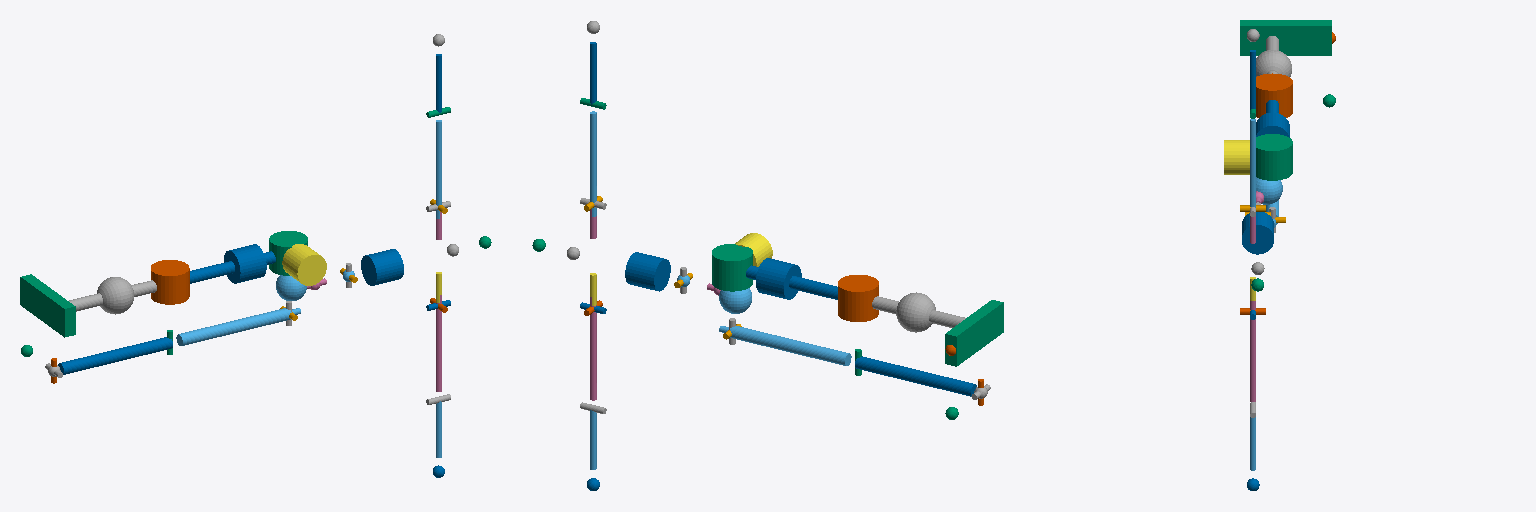
--- Render facts (derived) ---
Views: 3 orthographic renders of the robot side by side, from view 1: azimuth 30°, elevation 25°; view 2: azimuth 150°, elevation 25°; view 3: azimuth 270°, elevation 25°.
Model bvh_human_3dof_tpose with 70 links and 69 joints (23 revolute, 45 fixed, 1 floating), rooted at world, posed all joints at 0.
Links seen in each view (by area): view 1: LeftFoot, LeftUpLeg, LeftLeg, LeftLeg_rz, RightUpLeg, RightLeg, LeftUpLeg_ry, Spine2, LeftUpLeg_rz, Hips, LeftArm; view 2: LeftFoot, LeftUpLeg, LeftLeg, LeftLeg_rz, LeftUpLeg_rz, RightUpLeg, RightLeg, Spine2, LeftArm, LeftUpLeg_ry, Hips, RightArm; view 3: LeftFoot, LeftUpLeg_rz, LeftLeg_rz, Spine2, LeftLeg, LeftUpLeg_ry, LeftUpLeg, RightArm, LeftArm.
Boxes of the visible links, left/top/right/bottom form: LeftFoot: left=20, top=274, right=75, bottom=337; LeftUpLeg: left=190, top=244, right=275, bottom=283; LeftLeg: left=69, top=277, right=156, bottom=314; LeftLeg_rz: left=151, top=260, right=189, bottom=304; RightUpLeg: left=176, top=308, right=300, bottom=345; RightLeg: left=58, top=337, right=172, bottom=374; LeftUpLeg_ry: left=282, top=244, right=326, bottom=285; Spine2: left=361, top=249, right=403, bottom=285; LeftUpLeg_rz: left=269, top=231, right=307, bottom=275; Hips: left=276, top=275, right=306, bottom=300; LeftArm: left=436, top=120, right=441, bottom=218; LeftFoot: left=945, top=300, right=1003, bottom=366; LeftUpLeg: left=746, top=258, right=837, bottom=299; LeftLeg: left=872, top=292, right=965, bottom=332; LeftLeg_rz: left=838, top=275, right=878, bottom=321; LeftUpLeg_rz: left=712, top=244, right=752, bottom=291; RightUpLeg: left=719, top=326, right=851, bottom=365; RightLeg: left=855, top=356, right=976, bottom=396; Spine2: left=625, top=252, right=670, bottom=291; LeftArm: left=590, top=111, right=596, bottom=216; LeftUpLeg_ry: left=735, top=233, right=772, bottom=266; Hips: left=719, top=288, right=751, bottom=313; RightArm: left=590, top=297, right=596, bottom=400; LeftFoot: left=1240, top=20, right=1331, bottom=55; LeftUpLeg_rz: left=1256, top=134, right=1292, bottom=180; LeftLeg_rz: left=1256, top=73, right=1292, bottom=117; Spine2: left=1242, top=212, right=1273, bottom=254; LeftLeg: left=1256, top=36, right=1291, bottom=76; LeftUpLeg_ry: left=1224, top=140, right=1249, bottom=174; LeftUpLeg: left=1256, top=100, right=1289, bottom=137; RightArm: left=1250, top=301, right=1255, bottom=401; LeftArm: left=1250, top=119, right=1255, bottom=207.
Size in the robot's own frame: 0.796 by 0.1705 by 0.7748 metres.
Geometry: primitives only (box / cylinder / sphere), no mesh files.

URDF robot description (bvh_human_3dof_tpose):
<?xml version='1.0' encoding='utf-8'?>
<robot name="bvh_human_3dof_tpose">
  <mujoco>
    <compiler meshdir="meshes" fusestatic="false" discardvisual="false" strippath="false" balanceinertia="true" />
  </mujoco>
  <link name="world" />
  <joint name="floating_base_joint" type="floating">
    <parent link="world" />
    <child link="Hips" />
  </joint>
  <link name="Hips">
    <inertial>
      <origin xyz="0 0 0" rpy="0 0 0" />
      <mass value="1" />
      <inertia ixx="0.0003125" ixy="0" ixz="0" iyy="0.0003125" iyz="0" izz="0.0003125" />
    </inertial>
    <visual>
      <geometry>
        <sphere radius="0.025" />
      </geometry>
    </visual>
  </link>
  <link name="LeftUpLeg_rz">
    <inertial>
      <origin xyz="0 0 0" rpy="0 0 0" />
      <mass value="1" />
      <inertia ixx="0.0003125" ixy="0" ixz="0" iyy="0.0003125" iyz="0" izz="0.0003125" />
    </inertial>
    <visual>
      <origin xyz="0 0 0" rpy="0 0 0" />
      <geometry>
        <cylinder radius="0.031" length="0.05" />
      </geometry>
    </visual>
  </link>
  <link name="LeftUpLeg_ry">
    <inertial>
      <origin xyz="0 0.05 0" rpy="0 0 0" />
      <mass value="0.5" />
      <inertia ixx="0.0003125" ixy="0" ixz="0" iyy="0.0003125" iyz="0" izz="0.0003125" />
    </inertial>
    <visual>
      <origin xyz="0 0.05 0" rpy="-1.5707963 0 0" />
      <geometry>
        <cylinder radius="0.027" length="0.048" />
      </geometry>
    </visual>
  </link>
  <link name="LeftUpLeg">
    <inertial>
      <origin xyz="0.08 0 0" rpy="0 0 0" />
      <mass value="0.5" />
      <inertia ixx="0.0003125" ixy="0" ixz="0" iyy="0.0003125" iyz="0" izz="0.0003125" />
    </inertial>
    <visual>
      <origin xyz="0.1 -0 -0" rpy="0 1.57 0" />
      <geometry>
        <cylinder radius="0.01" length="0.2" />
      </geometry>
    </visual>
    <visual>
      <origin xyz="0.08 0 0" rpy="0 1.5707963 0" />
      <geometry>
        <cylinder radius="0.027" length="0.048" />
      </geometry>
    </visual>
  </link>
  <joint name="Hips_to_LeftUpLeg_rz" type="revolute">
    <parent link="Hips" />
    <child link="LeftUpLeg_rz" />
    <origin xyz="0.00051729 0.0092891 0.05274253" rpy="0 0 -3.1415927" />
    <axis xyz="0 0 1" />
    <limit lower="-3.14159" upper="3.14159" effort="55" velocity="10" />
  </joint>
  <joint name="LeftUpLeg_rz_to_LeftUpLeg_ry" type="revolute">
    <parent link="LeftUpLeg_rz" />
    <child link="LeftUpLeg_ry" />
    <origin xyz="0 0 0" rpy="0 0 0" />
    <axis xyz="0 1 0" />
    <limit lower="-3.14159" upper="3.14159" effort="25" velocity="10" />
  </joint>
  <joint name="LeftUpLeg_ry_to_LeftUpLeg" type="revolute">
    <parent link="LeftUpLeg_ry" />
    <child link="LeftUpLeg" />
    <origin xyz="0 0 0" rpy="3.1415927 0 0" />
    <axis xyz="1 0 0" />
    <limit lower="-3.14159" upper="3.14159" effort="25" velocity="10" />
  </joint>
  <link name="LeftLeg_rz">
    <inertial>
      <origin xyz="0 0 0" rpy="0 0 0" />
      <mass value="1" />
      <inertia ixx="0.0003125" ixy="0" ixz="0" iyy="0.0003125" iyz="0" izz="0.0003125" />
    </inertial>
    <visual>
      <origin xyz="0 0 0" rpy="0 0 0" />
      <geometry>
        <cylinder radius="0.031" length="0.05" />
      </geometry>
    </visual>
  </link>
  <link name="LeftLeg_ry">
    <inertial>
      <origin xyz="0 0 0" rpy="0 0 0" />
      <mass value="0.005" />
      <inertia ixx="0.0003125" ixy="0" ixz="0" iyy="0.0003125" iyz="0" izz="0.0003125" />
    </inertial>
  </link>
  <link name="LeftLeg">
    <inertial>
      <origin xyz="0 0 0" rpy="0 0 0" />
      <mass value="1" />
      <inertia ixx="0.0003125" ixy="0" ixz="0" iyy="0.0003125" iyz="0" izz="0.0003125" />
    </inertial>
    <visual>
      <origin xyz="0.1 -0 -0" rpy="0 1.57 0" />
      <geometry>
        <cylinder radius="0.01" length="0.2" />
      </geometry>
    </visual>
    <visual>
      <origin xyz="0.1 -0 -0" rpy="0 1.57 0" />
      <geometry>
        <sphere radius="0.03"  />
      </geometry>
    </visual>
  </link>
  <joint name="LeftUpLeg_to_LeftLeg_rz" type="revolute">
    <parent link="LeftUpLeg" />
    <child link="LeftLeg_rz" />
    <origin xyz="0.2175 -0.0000001 0.00000001" rpy="0 0 0" />
    <axis xyz="0 0 1" />
    <limit lower="-3.14159" upper="3.14159" effort="55" velocity="10" />
  </joint>
  <joint name="LeftLeg_rz_to_LeftLeg_ry" type="fixed">
    <parent link="LeftLeg_rz" />
    <child link="LeftLeg_ry" />
    <origin xyz="0 0 0" rpy="0 0 0" />
    <axis xyz="0 1 0" />
    <limit lower="-3.14159" upper="3.14159" effort="100" velocity="10" />
  </joint>
  <joint name="LeftLeg_ry_to_LeftLeg" type="fixed">
    <parent link="LeftLeg_ry" />
    <child link="LeftLeg" />
    <origin xyz="0 0 0" rpy="0 0 0" />
    <axis xyz="1 0 0" />
    <limit lower="-3.14159" upper="3.14159" effort="100" velocity="10" />
  </joint>
  <link name="LeftFoot_rz">
    <inertial>
      <origin xyz="0 0 0" rpy="0 0 0" />
      <mass value="0.005" />
      <inertia ixx="0.0003125" ixy="0" ixz="0" iyy="0.0003125" iyz="0" izz="0.0003125" />
    </inertial>
    <visual>
      <origin xyz="0 0 0" rpy="0 0 0" />
      <geometry>
        <cylinder radius="0.005" length="0.04" />
      </geometry>
    </visual>
  </link>
  <link name="LeftFoot_ry">
    <inertial>
      <origin xyz="0 0 0" rpy="0 0 0" />
      <mass value="0.005" />
      <inertia ixx="0.0003125" ixy="0" ixz="0" iyy="0.0003125" iyz="0" izz="0.0003125" />
    </inertial>
  </link>
  <link name="LeftFoot">
    <inertial>
      <origin xyz="0 0 0" rpy="0 0 0" />
      <mass value="0.105" />
      <inertia ixx="0.0003125" ixy="0" ixz="0" iyy="0.0003125" iyz="0" izz="0.0003125" />
    </inertial>
    <visual>
      <origin xyz="0.02 0 0" rpy="0 0 0" />
      <geometry>
        <box size="0.14 0.02 0.05" />
      </geometry>
    </visual>
    <visual>
      <origin xyz="0 0 0" rpy="0 1.5707963 0" />
      <geometry>
        <cylinder radius="0.005" length="0.04" />
      </geometry>
    </visual>
  </link>
  <joint name="LeftLeg_to_LeftFoot_rz" type="revolute">
    <parent link="LeftLeg" />
    <child link="LeftFoot_rz" />
    <origin xyz="0.211861 -0.00000002 0.00000001" rpy="0 0 1.5707963" />
    <axis xyz="0 0 1" />
    <limit lower="-3.14159" upper="3.14159" effort="50" velocity="10" />
  </joint>
  <joint name="LeftFoot_rz_to_LeftFoot_ry" type="fixed">
    <parent link="LeftFoot_rz" />
    <child link="LeftFoot_ry" />
    <origin xyz="0 0 0" rpy="0 0 0" />
    <axis xyz="0 1 0" />
    <limit lower="-3.14159" upper="3.14159" effort="100" velocity="10" />
  </joint>
  <joint name="LeftFoot_ry_to_LeftFoot" type="revolute">
    <parent link="LeftFoot_ry" />
    <child link="LeftFoot" />
    <origin xyz="0 0 0" rpy="0 0 0" />
    <axis xyz="1 0 0" />
    <limit lower="-3.14159" upper="3.14159" effort="50" velocity="10" />
  </joint>
  <link name="LeftToe_rz">
    <inertial>
      <origin xyz="0 0 0" rpy="0 0 0" />
      <mass value="0.005" />
      <inertia ixx="0.0003125" ixy="0" ixz="0" iyy="0.0003125" iyz="0" izz="0.0003125" />
    </inertial>
  </link>
  <link name="LeftToe_ry">
    <inertial>
      <origin xyz="0 0 0" rpy="0 0 0" />
      <mass value="0.005" />
      <inertia ixx="0.0003125" ixy="0" ixz="0" iyy="0.0003125" iyz="0" izz="0.0003125" />
    </inertial>
  </link>
  <link name="LeftToe">
    <inertial>
      <origin xyz="0 0 0" rpy="0 0 0" />
      <mass value="0.005" />
      <inertia ixx="0.0003125" ixy="0" ixz="0" iyy="0.0003125" iyz="0" izz="0.0003125" />
    </inertial>
    <visual>
      <geometry>
        <sphere radius="0.01" />
      </geometry>
    </visual>
  </link>
  <joint name="LeftFoot_to_LeftToe_rz" type="fixed">
    <parent link="LeftFoot" />
    <child link="LeftToe_rz" />
    <origin xyz="0.08650004 0.00000001 0.00000003" rpy="0 0 0" />
    <axis xyz="0 0 1" />
    <limit lower="-3.14159" upper="3.14159" effort="100" velocity="10" />
  </joint>
  <joint name="LeftToe_rz_to_LeftToe_ry" type="fixed">
    <parent link="LeftToe_rz" />
    <child link="LeftToe_ry" />
    <origin xyz="0 0 0" rpy="0 0 0" />
    <axis xyz="0 1 0" />
    <limit lower="-3.14159" upper="3.14159" effort="100" velocity="10" />
  </joint>
  <joint name="LeftToe_ry_to_LeftToe" type="fixed">
    <parent link="LeftToe_ry" />
    <child link="LeftToe" />
    <origin xyz="0 0 0" rpy="0 0 0" />
    <axis xyz="1 0 0" />
    <limit lower="-3.14159" upper="3.14159" effort="100" velocity="10" />
  </joint>
  <link name="LeftToe_End">
    <inertial>
      <origin xyz="0 0 0" rpy="0 0 0" />
      <mass value="0.125" />
      <inertia ixx="0.0003125" ixy="0" ixz="0" iyy="0.0003125" iyz="0" izz="0.0003125" />
    </inertial>
    <visual>
      <geometry>
        <sphere radius="0.01" />
      </geometry>
    </visual>
  </link>
  <joint name="LeftToe_to_LeftToe_End" type="fixed">
    <parent link="LeftToe" />
    <child link="LeftToe_End" />
    <origin xyz="0 0 0" rpy="0 0 0" />
  </joint>
  <link name="RightUpLeg_rz">
    <inertial>
      <origin xyz="0 0 0" rpy="0 0 0" />
      <mass value="0.125" />
      <inertia ixx="0.0003125" ixy="0" ixz="0" iyy="0.0003125" iyz="0" izz="0.0003125" />
    </inertial>
    <visual>
      <origin xyz="0 0 0" rpy="0 0 0" />
      <geometry>
        <cylinder radius="0.005" length="0.04" />
      </geometry>
    </visual>
  </link>
  <link name="RightUpLeg_ry">
    <inertial>
      <origin xyz="0 0 0" rpy="0 0 0" />
      <mass value="0.125" />
      <inertia ixx="0.0003125" ixy="0" ixz="0" iyy="0.0003125" iyz="0" izz="0.0003125" />
    </inertial>
    <visual>
      <origin xyz="0 0 0" rpy="-1.5707963 0 0" />
      <geometry>
        <cylinder radius="0.005" length="0.04" />
      </geometry>
    </visual>
  </link>
  <link name="RightUpLeg">
    <inertial>
      <origin xyz="0 0 0" rpy="0 0 0" />
      <mass value="0.125" />
      <inertia ixx="0.0003125" ixy="0" ixz="0" iyy="0.0003125" iyz="0" izz="0.0003125" />
    </inertial>
    <visual>
      <origin xyz="0.1 -0 -0" rpy="0 1.57 0" />
      <geometry>
        <cylinder radius="0.01" length="0.2" />
      </geometry>
    </visual>
    <visual>
      <origin xyz="0 0 0" rpy="0 1.5707963 0" />
      <geometry>
        <cylinder radius="0.005" length="0.04" />
      </geometry>
    </visual>
  </link>
  <joint name="Hips_to_RightUpLeg_rz" type="revolute">
    <parent link="Hips" />
    <child link="RightUpLeg_rz" />
    <origin xyz="0.00051729 0.00928909 -0.05274252" rpy="0 0 -3.1415927" />
    <axis xyz="0 0 1" />
    <limit lower="-3.14159" upper="3.14159" effort="100" velocity="10" />
  </joint>
  <joint name="RightUpLeg_rz_to_RightUpLeg_ry" type="revolute">
    <parent link="RightUpLeg_rz" />
    <child link="RightUpLeg_ry" />
    <origin xyz="0 0 0" rpy="0 0 0" />
    <axis xyz="0 1 0" />
    <limit lower="-3.14159" upper="3.14159" effort="100" velocity="10" />
  </joint>
  <joint name="RightUpLeg_ry_to_RightUpLeg" type="revolute">
    <parent link="RightUpLeg_ry" />
    <child link="RightUpLeg" />
    <origin xyz="0 0 0" rpy="-3.1415927 0 0" />
    <axis xyz="1 0 0" />
    <limit lower="-3.14159" upper="3.14159" effort="100" velocity="10" />
  </joint>
  <link name="RightLeg_rz">
    <inertial>
      <origin xyz="0 0 0" rpy="0 0 0" />
      <mass value="0.125" />
      <inertia ixx="0.0003125" ixy="0" ixz="0" iyy="0.0003125" iyz="0" izz="0.0003125" />
    </inertial>
    <visual>
      <origin xyz="0 0 0" rpy="0 0 0" />
      <geometry>
        <cylinder radius="0.005" length="0.04" />
      </geometry>
    </visual>
  </link>
  <link name="RightLeg_ry">
    <inertial>
      <origin xyz="0 0 0" rpy="0 0 0" />
      <mass value="0.125" />
      <inertia ixx="0.0003125" ixy="0" ixz="0" iyy="0.0003125" iyz="0" izz="0.0003125" />
    </inertial>
  </link>
  <link name="RightLeg">
    <inertial>
      <origin xyz="0 0 0" rpy="0 0 0" />
      <mass value="0.125" />
      <inertia ixx="0.0003125" ixy="0" ixz="0" iyy="0.0003125" iyz="0" izz="0.0003125" />
    </inertial>
    <visual>
      <origin xyz="0.1 -0 -0" rpy="0 1.57 0" />
      <geometry>
        <cylinder radius="0.01" length="0.2" />
      </geometry>
    </visual>
  </link>
  <joint name="RightUpLeg_to_RightLeg_rz" type="revolute">
    <parent link="RightUpLeg" />
    <child link="RightLeg_rz" />
    <origin xyz="0.21750021 -0.00000007 0.00000005" rpy="0 0 0" />
    <axis xyz="0 0 1" />
    <limit lower="-3.14159" upper="3.14159" effort="100" velocity="10" />
  </joint>
  <joint name="RightLeg_rz_to_RightLeg_ry" type="fixed">
    <parent link="RightLeg_rz" />
    <child link="RightLeg_ry" />
    <origin xyz="0 0 0" rpy="0 0 0" />
    <axis xyz="0 1 0" />
    <limit lower="-3.14159" upper="3.14159" effort="100" velocity="10" />
  </joint>
  <joint name="RightLeg_ry_to_RightLeg" type="fixed">
    <parent link="RightLeg_ry" />
    <child link="RightLeg" />
    <origin xyz="0 0 0" rpy="0 0 0" />
    <axis xyz="1 0 0" />
    <limit lower="-3.14159" upper="3.14159" effort="100" velocity="10" />
  </joint>
  <link name="RightFoot_rz">
    <inertial>
      <origin xyz="0 0 0" rpy="0 0 0" />
      <mass value="0.125" />
      <inertia ixx="0.0003125" ixy="0" ixz="0" iyy="0.0003125" iyz="0" izz="0.0003125" />
    </inertial>
    <visual>
      <origin xyz="0 0 0" rpy="0 0 0" />
      <geometry>
        <cylinder radius="0.005" length="0.04" />
      </geometry>
    </visual>
  </link>
  <link name="RightFoot_ry">
    <inertial>
      <origin xyz="0 0 0" rpy="0 0 0" />
      <mass value="0.125" />
      <inertia ixx="0.0003125" ixy="0" ixz="0" iyy="0.0003125" iyz="0" izz="0.0003125" />
    </inertial>
  </link>
  <link name="RightFoot">
    <inertial>
      <origin xyz="0 0 0" rpy="0 0 0" />
      <mass value="0.125" />
      <inertia ixx="0.0003125" ixy="0" ixz="0" iyy="0.0003125" iyz="0" izz="0.0003125" />
    </inertial>
    <visual>
      <geometry>
        <sphere radius="0.01" />
      </geometry>
    </visual>
    <visual>
      <origin xyz="0 0 0" rpy="0 1.5707963 0" />
      <geometry>
        <cylinder radius="0.005" length="0.04" />
      </geometry>
    </visual>
  </link>
  <joint name="RightLeg_to_RightFoot_rz" type="revolute">
    <parent link="RightLeg" />
    <child link="RightFoot_rz" />
    <origin xyz="0.2118613 -0.00000004 0.00000005" rpy="0 0 1.5707963" />
    <axis xyz="0 0 1" />
    <limit lower="-3.14159" upper="3.14159" effort="100" velocity="10" />
  </joint>
  <joint name="RightFoot_rz_to_RightFoot_ry" type="fixed">
    <parent link="RightFoot_rz" />
    <child link="RightFoot_ry" />
    <origin xyz="0 0 0" rpy="0 0 0" />
    <axis xyz="0 1 0" />
    <limit lower="-3.14159" upper="3.14159" effort="100" velocity="10" />
  </joint>
  <joint name="RightFoot_ry_to_RightFoot" type="revolute">
    <parent link="RightFoot_ry" />
    <child link="RightFoot" />
    <origin xyz="0 0 0" rpy="0 0 0" />
    <axis xyz="1 0 0" />
    <limit lower="-3.14159" upper="3.14159" effort="100" velocity="10" />
  </joint>
  <link name="RightToe_rz">
    <inertial>
      <origin xyz="0 0 0" rpy="0 0 0" />
      <mass value="0.125" />
      <inertia ixx="0.0003125" ixy="0" ixz="0" iyy="0.0003125" iyz="0" izz="0.0003125" />
    </inertial>
  </link>
  <link name="RightToe_ry">
    <inertial>
      <origin xyz="0 0 0" rpy="0 0 0" />
      <mass value="0.125" />
      <inertia ixx="0.0003125" ixy="0" ixz="0" iyy="0.0003125" iyz="0" izz="0.0003125" />
    </inertial>
  </link>
  <link name="RightToe">
    <inertial>
      <origin xyz="0 0 0" rpy="0 0 0" />
      <mass value="0.125" />
      <inertia ixx="0.0003125" ixy="0" ixz="0" iyy="0.0003125" iyz="0" izz="0.0003125" />
    </inertial>
    <visual>
      <geometry>
        <sphere radius="0.01" />
      </geometry>
    </visual>
  </link>
  <joint name="RightFoot_to_RightToe_rz" type="fixed">
    <parent link="RightFoot" />
    <child link="RightToe_rz" />
    <origin xyz="0.08649998 -0.00000002 0" rpy="0 0 0" />
    <axis xyz="0 0 1" />
    <limit lower="-3.14159" upper="3.14159" effort="100" velocity="10" />
  </joint>
  <joint name="RightToe_rz_to_RightToe_ry" type="fixed">
    <parent link="RightToe_rz" />
    <child link="RightToe_ry" />
    <origin xyz="0 0 0" rpy="0 0 0" />
    <axis xyz="0 1 0" />
    <limit lower="-3.14159" upper="3.14159" effort="100" velocity="10" />
  </joint>
  <joint name="RightToe_ry_to_RightToe" type="fixed">
    <parent link="RightToe_ry" />
    <child link="RightToe" />
    <origin xyz="0 0 0" rpy="0 0 0" />
    <axis xyz="1 0 0" />
    <limit lower="-3.14159" upper="3.14159" effort="100" velocity="10" />
  </joint>
  <link name="RightToe_End">
    <inertial>
      <origin xyz="0 0 0" rpy="0 0 0" />
      <mass value="0.125" />
      <inertia ixx="0.0003125" ixy="0" ixz="0" iyy="0.0003125" iyz="0" izz="0.0003125" />
    </inertial>
    <visual>
      <geometry>
        <sphere radius="0.01" />
      </geometry>
    </visual>
  </link>
  <joint name="RightToe_to_RightToe_End" type="fixed">
    <parent link="RightToe" />
    <child link="RightToe_End" />
    <origin xyz="0 0 0" rpy="0 0 0" />
  </joint>
  <link name="Spine_rz">
    <inertial>
      <origin xyz="0 0 0" rpy="0 0 0" />
      <mass value="0.125" />
      <inertia ixx="0.0003125" ixy="0" ixz="0" iyy="0.0003125" iyz="0" izz="0.0003125" />
    </inertial>
  </link>
  <link name="Spine_ry">
    <inertial>
      <origin xyz="0 0 0" rpy="0 0 0" />
      <mass value="0.125" />
      <inertia ixx="0.0003125" ixy="0" ixz="0" iyy="0.0003125" iyz="0" izz="0.0003125" />
    </inertial>
  </link>
  <link name="Spine">
    <inertial>
      <origin xyz="0 0 0" rpy="0 0 0" />
      <mass value="0.125" />
      <inertia ixx="0.0003125" ixy="0" ixz="0" iyy="0.0003125" iyz="0" izz="0.0003125" />
    </inertial>
    <visual>
      <geometry>
        <sphere radius="0.01" />
      </geometry>
    </visual>
    <visual>
      <origin xyz="0 0 0" rpy="0 1.5707963 0" />
      <geometry>
        <cylinder radius="0.005" length="0.04" />
      </geometry>
    </visual>
  </link>
  <joint name="Hips_to_Spine_rz" type="fixed">
    <parent link="Hips" />
    <child link="Spine_rz" />
    <origin xyz="0.03450984 -0.01301872 0.00000001" rpy="0 0 0" />
    <axis xyz="0 0 1" />
    <limit lower="-3.14159" upper="3.14159" effort="100" velocity="10" />
  </joint>
  <joint name="Spine_rz_to_Spine_ry" type="fixed">
    <parent link="Spine_rz" />
    <child link="Spine_ry" />
    <origin xyz="0 0 0" rpy="0 0 0" />
    <axis xyz="0 1 0" />
    <limit lower="-3.14159" upper="3.14159" effort="100" velocity="10" />
  </joint>
  <joint name="Spine_ry_to_Spine" type="revolute">
    <parent link="Spine_ry" />
    <child link="Spine" />
    <origin xyz="0 0 0" rpy="0 0 0" />
    <axis xyz="1 0 0" />
    <limit lower="-3.14159" upper="3.14159" effort="100" velocity="10" />
  </joint>
  <link name="Spine1_rz">
    <inertial>
      <origin xyz="0 0 0" rpy="0 0 0" />
      <mass value="0.125" />
      <inertia ixx="0.0003125" ixy="0" ixz="0" iyy="0.0003125" iyz="0" izz="0.0003125" />
    </inertial>
    <visual>
      <origin xyz="0 0 0" rpy="0 0 0" />
      <geometry>
        <cylinder radius="0.005" length="0.04" />
      </geometry>
    </visual>
  </link>
  <link name="Spine1_ry">
    <inertial>
      <origin xyz="0 0 0" rpy="0 0 0" />
      <mass value="0.125" />
      <inertia ixx="0.0003125" ixy="0" ixz="0" iyy="0.0003125" iyz="0" izz="0.0003125" />
    </inertial>
    <visual>
      <origin xyz="0 0 0" rpy="-1.5707963 0 0" />
      <geometry>
        <cylinder radius="0.005" length="0.04" />
      </geometry>
    </visual>
  </link>
  <link name="Spine1">
    <inertial>
      <origin xyz="0 0 0" rpy="0 0 0" />
      <mass value="0.125" />
      <inertia ixx="0.0003125" ixy="0" ixz="0" iyy="0.0003125" iyz="0" izz="0.0003125" />
    </inertial>
    <visual>
      <geometry>
        <sphere radius="0.01" />
      </geometry>
    </visual>
  </link>
  <joint name="Spine_to_Spine1_rz" type="revolute">
    <parent link="Spine" />
    <child link="Spine1_rz" />
    <origin xyz="0.0629405 0.00000008 -0.00000002" rpy="0 0 0" />
    <axis xyz="0 0 1" />
    <limit lower="-3.14159" upper="3.14159" effort="100" velocity="10" />
  </joint>
  <joint name="Spine1_rz_to_Spine1_ry" type="revolute">
    <parent link="Spine1_rz" />
    <child link="Spine1_ry" />
    <origin xyz="0 0 0" rpy="0 0 0" />
    <axis xyz="0 1 0" />
    <limit lower="-3.14159" upper="3.14159" effort="100" velocity="10" />
  </joint>
  <joint name="Spine1_ry_to_Spine1" type="fixed">
    <parent link="Spine1_ry" />
    <child link="Spine1" />
    <origin xyz="0 0 0" rpy="0 0 0" />
    <axis xyz="1 0 0" />
    <limit lower="-3.14159" upper="3.14159" effort="100" velocity="10" />
  </joint>
  <link name="Spine2_rz">
    <inertial>
      <origin xyz="0 0 0" rpy="0 0 0" />
      <mass value="0.125" />
      <inertia ixx="0.0003125" ixy="0" ixz="0" iyy="0.0003125" iyz="0" izz="0.0003125" />
    </inertial>
  </link>
  <link name="Spine2_ry">
    <inertial>
      <origin xyz="0 0 0" rpy="0 0 0" />
      <mass value="0.125" />
      <inertia ixx="0.0003125" ixy="0" ixz="0" iyy="0.0003125" iyz="0" izz="0.0003125" />
    </inertial>
  </link>
  <link name="Spine2">
    <inertial>
      <origin xyz="0 0 0" rpy="0 0 0" />
      <mass value="0.125" />
      <inertia ixx="0.0003125" ixy="0" ixz="0" iyy="0.0003125" iyz="0" izz="0.0003125" />
    </inertial>
    <visual>
      <origin xyz="0 -0 -0" rpy="0 1.57 0" />
      <geometry>
        <cylinder radius="0.025" length="0.05" />
      </geometry>
    </visual>
  </link>
  <joint name="Spine1_to_Spine2_rz" type="fixed">
    <parent link="Spine1" />
    <child link="Spine2_rz" />
    <origin xyz="0.061716 -0.00000006 -0.00000002" rpy="0 0 0" />
    <axis xyz="0 0 1" />
    <limit lower="-3.14159" upper="3.14159" effort="100" velocity="10" />
  </joint>
  <joint name="Spine2_rz_to_Spine2_ry" type="fixed">
    <parent link="Spine2_rz" />
    <child link="Spine2_ry" />
    <origin xyz="0 0 0" rpy="0 0 0" />
    <axis xyz="0 1 0" />
    <limit lower="-3.14159" upper="3.14159" effort="100" velocity="10" />
  </joint>
  <joint name="Spine2_ry_to_Spine2" type="fixed">
    <parent link="Spine2_ry" />
    <child link="Spine2" />
    <origin xyz="0 0 0" rpy="0 0 0" />
    <axis xyz="1 0 0" />
    <limit lower="-3.14159" upper="3.14159" effort="100" velocity="10" />
  </joint>
  <link name="Neck_rz">
    <inertial>
      <origin xyz="0 0 0" rpy="0 0 0" />
      <mass value="0.125" />
      <inertia ixx="0.0003125" ixy="0" ixz="0" iyy="0.0003125" iyz="0" izz="0.0003125" />
    </inertial>
  </link>
  <link name="Neck_ry">
    <inertial>
      <origin xyz="0 0 0" rpy="0 0 0" />
      <mass value="0.125" />
      <inertia ixx="0.0003125" ixy="0" ixz="0" iyy="0.0003125" iyz="0" izz="0.0003125" />
    </inertial>
  </link>
  <link name="Neck">
    <inertial>
      <origin xyz="0 0 0" rpy="0 0 0" />
      <mass value="0.125" />
      <inertia ixx="0.0003125" ixy="0" ixz="0" iyy="0.0003125" iyz="0" izz="0.0003125" />
    </inertial>
    <visual>
      <geometry>
        <sphere radius="0.01" />
      </geometry>
    </visual>
  </link>
  <joint name="Spine2_to_Neck_rz" type="fixed">
    <parent link="Spine2" />
    <child link="Neck_rz" />
    <origin xyz="0.12916448 0.00000004 0.00000003" rpy="0 0 0" />
    <axis xyz="0 0 1" />
    <limit lower="-3.14159" upper="3.14159" effort="100" velocity="10" />
  </joint>
  <joint name="Neck_rz_to_Neck_ry" type="fixed">
    <parent link="Neck_rz" />
    <child link="Neck_ry" />
    <origin xyz="0 0 0" rpy="0 0 0" />
    <axis xyz="0 1 0" />
    <limit lower="-3.14159" upper="3.14159" effort="100" velocity="10" />
  </joint>
  <joint name="Neck_ry_to_Neck" type="fixed">
    <parent link="Neck_ry" />
    <child link="Neck" />
    <origin xyz="0 0 0" rpy="0 0 0" />
    <axis xyz="1 0 0" />
    <limit lower="-3.14159" upper="3.14159" effort="100" velocity="10" />
  </joint>
  <link name="Head_rz">
    <inertial>
      <origin xyz="0 0 0" rpy="0 0 0" />
      <mass value="0.125" />
      <inertia ixx="0.0003125" ixy="0" ixz="0" iyy="0.0003125" iyz="0" izz="0.0003125" />
    </inertial>
  </link>
  <link name="Head_ry">
    <inertial>
      <origin xyz="0 0 0" rpy="0 0 0" />
      <mass value="0.125" />
      <inertia ixx="0.0003125" ixy="0" ixz="0" iyy="0.0003125" iyz="0" izz="0.0003125" />
    </inertial>
  </link>
  <link name="Head">
    <inertial>
      <origin xyz="0 0 0" rpy="0 0 0" />
      <mass value="0.125" />
      <inertia ixx="0.0003125" ixy="0" ixz="0" iyy="0.0003125" iyz="0" izz="0.0003125" />
    </inertial>
    <visual>
      <geometry>
        <sphere radius="0.01" />
      </geometry>
    </visual>
  </link>
  <joint name="Neck_to_Head_rz" type="fixed">
    <parent link="Neck" />
    <child link="Head_rz" />
    <origin xyz="0.05883306 -0.00000002 -0.00000001" rpy="0 0 0" />
    <axis xyz="0 0 1" />
    <limit lower="-3.14159" upper="3.14159" effort="100" velocity="10" />
  </joint>
  <joint name="Head_rz_to_Head_ry" type="fixed">
    <parent link="Head_rz" />
    <child link="Head_ry" />
    <origin xyz="0 0 0" rpy="0 0 0" />
    <axis xyz="0 1 0" />
    <limit lower="-3.14159" upper="3.14159" effort="100" velocity="10" />
  </joint>
  <joint name="Head_ry_to_Head" type="fixed">
    <parent link="Head_ry" />
    <child link="Head" />
    <origin xyz="0 0 0" rpy="0 0 0" />
    <axis xyz="1 0 0" />
    <limit lower="-3.14159" upper="3.14159" effort="100" velocity="10" />
  </joint>
  <link name="Head_End">
    <inertial>
      <origin xyz="0 0 0" rpy="0 0 0" />
      <mass value="0.125" />
      <inertia ixx="0.0003125" ixy="0" ixz="0" iyy="0.0003125" iyz="0" izz="0.0003125" />
    </inertial>
    <visual>
      <geometry>
        <sphere radius="0.01" />
      </geometry>
    </visual>
  </link>
  <joint name="Head_to_Head_End" type="fixed">
    <parent link="Head" />
    <child link="Head_End" />
    <origin xyz="0 0 0" rpy="0 0 0" />
  </joint>
  <link name="LeftShoulder_rz">
    <inertial>
      <origin xyz="0 0 0" rpy="0 0 0" />
      <mass value="0.125" />
      <inertia ixx="0.0003125" ixy="0" ixz="0" iyy="0.0003125" iyz="0" izz="0.0003125" />
    </inertial>
  </link>
  <link name="LeftShoulder_ry">
    <inertial>
      <origin xyz="0 0 0" rpy="0 0 0" />
      <mass value="0.125" />
      <inertia ixx="0.0003125" ixy="0" ixz="0" iyy="0.0003125" iyz="0" izz="0.0003125" />
    </inertial>
  </link>
  <link name="LeftShoulder">
    <inertial>
      <origin xyz="0 0 0" rpy="0 0 0" />
      <mass value="0.125" />
      <inertia ixx="0.0003125" ixy="0" ixz="0" iyy="0.0003125" iyz="0" izz="0.0003125" />
    </inertial>
    <visual>
      <origin xyz="0.025 -0 -0" rpy="0 1.57 0" />
      <geometry>
        <cylinder radius="0.005" length="0.05" />
      </geometry>
    </visual>
  </link>
  <joint name="Spine2_to_LeftShoulder_rz" type="fixed">
    <parent link="Spine2" />
    <child link="LeftShoulder_rz" />
    <origin xyz="0.09872949 -0.00740185 0.03000058" rpy="0 0 -1.5707963" />
    <axis xyz="0 0 1" />
    <limit lower="-3.14159" upper="3.14159" effort="100" velocity="10" />
  </joint>
  <joint name="LeftShoulder_rz_to_LeftShoulder_ry" type="fixed">
    <parent link="LeftShoulder_rz" />
    <child link="LeftShoulder_ry" />
    <origin xyz="0 0 0" rpy="0 -1.5707963 0" />
    <axis xyz="0 1 0" />
    <limit lower="-3.14159" upper="3.14159" effort="100" velocity="10" />
  </joint>
  <joint name="LeftShoulder_ry_to_LeftShoulder" type="fixed">
    <parent link="LeftShoulder_ry" />
    <child link="LeftShoulder" />
    <origin xyz="0 0 0" rpy="-1.5707963 0 0" />
    <axis xyz="1 0 0" />
    <limit lower="-3.14159" upper="3.14159" effort="100" velocity="10" />
  </joint>
  <link name="LeftArm_rz">
    <inertial>
      <origin xyz="0 0 0" rpy="0 0 0" />
      <mass value="0.125" />
      <inertia ixx="0.0003125" ixy="0" ixz="0" iyy="0.0003125" iyz="0" izz="0.0003125" />
    </inertial>
    <visual>
      <origin xyz="0 0 0" rpy="0 0 0" />
      <geometry>
        <cylinder radius="0.005" length="0.04" />
      </geometry>
    </visual>
  </link>
  <link name="LeftArm_ry">
    <inertial>
      <origin xyz="0 0 0" rpy="0 0 0" />
      <mass value="0.125" />
      <inertia ixx="0.0003125" ixy="0" ixz="0" iyy="0.0003125" iyz="0" izz="0.0003125" />
    </inertial>
    <visual>
      <origin xyz="0 0 0" rpy="-1.5707963 0 0" />
      <geometry>
        <cylinder radius="0.005" length="0.04" />
      </geometry>
    </visual>
  </link>
  <link name="LeftArm">
    <inertial>
      <origin xyz="0 0 0" rpy="0 0 0" />
      <mass value="0.125" />
      <inertia ixx="0.0003125" ixy="0" ixz="0" iyy="0.0003125" iyz="0" izz="0.0003125" />
    </inertial>
    <visual>
      <origin xyz="0.075 -0 -0" rpy="0 1.57 0" />
      <geometry>
        <cylinder radius="0.005" length="0.15" />
      </geometry>
    </visual>
    <visual>
      <origin xyz="0 0 0" rpy="0 1.5707963 0" />
      <geometry>
        <cylinder radius="0.005" length="0.04" />
      </geometry>
    </visual>
  </link>
  <joint name="LeftShoulder_to_LeftArm_rz" type="revolute">
    <parent link="LeftShoulder" />
    <child link="LeftArm_rz" />
    <origin xyz="0.05642062 -0.00000006 -0.00000004" rpy="0 0 0" />
    <axis xyz="0 0 1" />
    <limit lower="-3.14159" upper="3.14159" effort="100" velocity="10" />
  </joint>
  <joint name="LeftArm_rz_to_LeftArm_ry" type="revolute">
    <parent link="LeftArm_rz" />
    <child link="LeftArm_ry" />
    <origin xyz="0 0 0" rpy="0 0 0" />
    <axis xyz="0 1 0" />
    <limit lower="-3.14159" upper="3.14159" effort="100" velocity="10" />
  </joint>
  <joint name="LeftArm_ry_to_LeftArm" type="revolute">
    <parent link="LeftArm_ry" />
    <child link="LeftArm" />
    <origin xyz="0 0 0" rpy="0 0 0" />
    <axis xyz="1 0 0" />
    <limit lower="-3.14159" upper="3.14159" effort="100" velocity="10" />
  </joint>
  <link name="LeftForeArm_rz">
    <inertial>
      <origin xyz="0 0 0" rpy="0 0 0" />
      <mass value="0.125" />
      <inertia ixx="0.0003125" ixy="0" ixz="0" iyy="0.0003125" iyz="0" izz="0.0003125" />
    </inertial>
    <visual>
      <origin xyz="0 0 0" rpy="0 0 0" />
      <geometry>
        <cylinder radius="0.005" length="0.04" />
      </geometry>
    </visual>
  </link>
  <link name="LeftForeArm_ry">
    <inertial>
      <origin xyz="0 0 0" rpy="0 0 0" />
      <mass value="0.125" />
      <inertia ixx="0.0003125" ixy="0" ixz="0" iyy="0.0003125" iyz="0" izz="0.0003125" />
    </inertial>
  </link>
  <link name="LeftForeArm">
    <inertial>
      <origin xyz="0 0 0" rpy="0 0 0" />
      <mass value="0.125" />
      <inertia ixx="0.0003125" ixy="0" ixz="0" iyy="0.0003125" iyz="0" izz="0.0003125" />
    </inertial>
    <visual>
      <origin xyz="0.05 -0 -0" rpy="0 1.57 0" />
      <geometry>
        <cylinder radius="0.005" length="0.1" />
      </geometry>
    </visual>
  </link>
  <joint name="LeftArm_to_LeftForeArm_rz" type="revolute">
    <parent link="LeftArm" />
    <child link="LeftForeArm_rz" />
    <origin xyz="0.16500023 0.00000001 0.00000011" rpy="0 0 0" />
    <axis xyz="0 0 1" />
    <limit lower="-3.14159" upper="3.14159" effort="100" velocity="10" />
  </joint>
  <joint name="LeftForeArm_rz_to_LeftForeArm_ry" type="fixed">
    <parent link="LeftForeArm_rz" />
    <child link="LeftForeArm_ry" />
    <origin xyz="0 0 0" rpy="0 0 0" />
    <axis xyz="0 1 0" />
    <limit lower="-3.14159" upper="3.14159" effort="100" velocity="10" />
  </joint>
  <joint name="LeftForeArm_ry_to_LeftForeArm" type="fixed">
    <parent link="LeftForeArm_ry" />
    <child link="LeftForeArm" />
    <origin xyz="0 0 0" rpy="0 0 0" />
    <axis xyz="1 0 0" />
    <limit lower="-3.14159" upper="3.14159" effort="100" velocity="10" />
  </joint>
  <link name="LeftHand_rz">
    <inertial>
      <origin xyz="0 0 0" rpy="0 0 0" />
      <mass value="0.125" />
      <inertia ixx="0.0003125" ixy="0" ixz="0" iyy="0.0003125" iyz="0" izz="0.0003125" />
    </inertial>
  </link>
  <link name="LeftHand_ry">
    <inertial>
      <origin xyz="0 0 0" rpy="0 0 0" />
      <mass value="0.125" />
      <inertia ixx="0.0003125" ixy="0" ixz="0" iyy="0.0003125" iyz="0" izz="0.0003125" />
    </inertial>
  </link>
  <link name="LeftHand">
    <inertial>
      <origin xyz="0 0 0" rpy="0 0 0" />
      <mass value="0.125" />
      <inertia ixx="0.0003125" ixy="0" ixz="0" iyy="0.0003125" iyz="0" izz="0.0003125" />
    </inertial>
    <visual>
      <geometry>
        <sphere radius="0.01" />
      </geometry>
    </visual>
  </link>
  <joint name="LeftForeArm_to_LeftHand_rz" type="fixed">
    <parent link="LeftForeArm" />
    <child link="LeftHand_rz" />
    <origin xyz="0.12600007 0.00000003 0.00000007" rpy="0 0 0" />
    <axis xyz="0 0 1" />
    <limit lower="-3.14159" upper="3.14159" effort="100" velocity="10" />
  </joint>
  <joint name="LeftHand_rz_to_LeftHand_ry" type="fixed">
    <parent link="LeftHand_rz" />
    <child link="LeftHand_ry" />
    <origin xyz="0 0 0" rpy="0 0 0" />
    <axis xyz="0 1 0" />
    <limit lower="-3.14159" upper="3.14159" effort="100" velocity="10" />
  </joint>
  <joint name="LeftHand_ry_to_LeftHand" type="fixed">
    <parent link="LeftHand_ry" />
    <child link="LeftHand" />
    <origin xyz="0 0 0" rpy="0 0 0" />
    <axis xyz="1 0 0" />
    <limit lower="-3.14159" upper="3.14159" effort="100" velocity="10" />
  </joint>
  <link name="LeftHand_End">
    <inertial>
      <origin xyz="0 0 0" rpy="0 0 0" />
      <mass value="0.125" />
      <inertia ixx="0.0003125" ixy="0" ixz="0" iyy="0.0003125" iyz="0" izz="0.0003125" />
    </inertial>
    <visual>
      <geometry>
        <sphere radius="0.01" />
      </geometry>
    </visual>
  </link>
  <joint name="LeftHand_to_LeftHand_End" type="fixed">
    <parent link="LeftHand" />
    <child link="LeftHand_End" />
    <origin xyz="0 0 0" rpy="0 0 0" />
  </joint>
  <link name="RightShoulder_rz">
    <inertial>
      <origin xyz="0 0 0" rpy="0 0 0" />
      <mass value="0.125" />
      <inertia ixx="0.0003125" ixy="0" ixz="0" iyy="0.0003125" iyz="0" izz="0.0003125" />
    </inertial>
  </link>
  <link name="RightShoulder_ry">
    <inertial>
      <origin xyz="0 0 0" rpy="0 0 0" />
      <mass value="0.125" />
      <inertia ixx="0.0003125" ixy="0" ixz="0" iyy="0.0003125" iyz="0" izz="0.0003125" />
    </inertial>
  </link>
  <link name="RightShoulder">
    <inertial>
      <origin xyz="0 0 0" rpy="0 0 0" />
      <mass value="0.125" />
      <inertia ixx="0.0003125" ixy="0" ixz="0" iyy="0.0003125" iyz="0" izz="0.0003125" />
    </inertial>
    <visual>
      <origin xyz="0.025 -0 -0" rpy="0 1.57 0" />
      <geometry>
        <cylinder radius="0.005" length="0.05" />
      </geometry>
    </visual>
  </link>
  <joint name="Spine2_to_RightShoulder_rz" type="fixed">
    <parent link="Spine2" />
    <child link="RightShoulder_rz" />
    <origin xyz="0.0987305 -0.00740189 -0.03000034" rpy="0 0 1.5707963" />
    <axis xyz="0 0 1" />
    <limit lower="-3.14159" upper="3.14159" effort="100" velocity="10" />
  </joint>
  <joint name="RightShoulder_rz_to_RightShoulder_ry" type="fixed">
    <parent link="RightShoulder_rz" />
    <child link="RightShoulder_ry" />
    <origin xyz="0 0 0" rpy="0 1.5707963 0" />
    <axis xyz="0 1 0" />
    <limit lower="-3.14159" upper="3.14159" effort="100" velocity="10" />
  </joint>
  <joint name="RightShoulder_ry_to_RightShoulder" type="fixed">
    <parent link="RightShoulder_ry" />
    <child link="RightShoulder" />
    <origin xyz="0 0 0" rpy="-1.5707963 0 0" />
    <axis xyz="1 0 0" />
    <limit lower="-3.14159" upper="3.14159" effort="100" velocity="10" />
  </joint>
  <link name="RightArm_rz">
    <inertial>
      <origin xyz="0 0 0" rpy="0 0 0" />
      <mass value="0.125" />
      <inertia ixx="0.0003125" ixy="0" ixz="0" iyy="0.0003125" iyz="0" izz="0.0003125" />
    </inertial>
    <visual>
      <origin xyz="0 0 0" rpy="0 0 0" />
      <geometry>
        <cylinder radius="0.005" length="0.04" />
      </geometry>
    </visual>
  </link>
  <link name="RightArm_ry">
    <inertial>
      <origin xyz="0 0 0" rpy="0 0 0" />
      <mass value="0.125" />
      <inertia ixx="0.0003125" ixy="0" ixz="0" iyy="0.0003125" iyz="0" izz="0.0003125" />
    </inertial>
    <visual>
      <origin xyz="0 0 0" rpy="-1.5707963 0 0" />
      <geometry>
        <cylinder radius="0.005" length="0.04" />
      </geometry>
    </visual>
  </link>
  <link name="RightArm">
    <inertial>
      <origin xyz="0 0 0" rpy="0 0 0" />
      <mass value="0.125" />
      <inertia ixx="0.0003125" ixy="0" ixz="0" iyy="0.0003125" iyz="0" izz="0.0003125" />
    </inertial>
    <visual>
      <origin xyz="0.075 -0 -0" rpy="0 1.57 0" />
      <geometry>
        <cylinder radius="0.005" length="0.15" />
      </geometry>
    </visual>
    <visual>
      <origin xyz="0 0 0" rpy="0 1.5707963 0" />
      <geometry>
        <cylinder radius="0.005" length="0.04" />
      </geometry>
    </visual>
  </link>
  <joint name="RightShoulder_to_RightArm_rz" type="revolute">
    <parent link="RightShoulder" />
    <child link="RightArm_rz" />
    <origin xyz="0.05642067 -0.00000017 -0.00000004" rpy="0 0 0" />
    <axis xyz="0 0 1" />
    <limit lower="-3.14159" upper="3.14159" effort="100" velocity="10" />
  </joint>
  <joint name="RightArm_rz_to_RightArm_ry" type="revolute">
    <parent link="RightArm_rz" />
    <child link="RightArm_ry" />
    <origin xyz="0 0 0" rpy="0 0 0" />
    <axis xyz="0 1 0" />
    <limit lower="-3.14159" upper="3.14159" effort="100" velocity="10" />
  </joint>
  <joint name="RightArm_ry_to_RightArm" type="revolute">
    <parent link="RightArm_ry" />
    <child link="RightArm" />
    <origin xyz="0 0 0" rpy="0 0 0" />
    <axis xyz="1 0 0" />
    <limit lower="-3.14159" upper="3.14159" effort="100" velocity="10" />
  </joint>
  <link name="RightForeArm_rz">
    <inertial>
      <origin xyz="0 0 0" rpy="0 0 0" />
      <mass value="0.125" />
      <inertia ixx="0.0003125" ixy="0" ixz="0" iyy="0.0003125" iyz="0" izz="0.0003125" />
    </inertial>
    <visual>
      <origin xyz="0 0 0" rpy="0 0 0" />
      <geometry>
        <cylinder radius="0.005" length="0.04" />
      </geometry>
    </visual>
  </link>
  <link name="RightForeArm_ry">
    <inertial>
      <origin xyz="0 0 0" rpy="0 0 0" />
      <mass value="0.125" />
      <inertia ixx="0.0003125" ixy="0" ixz="0" iyy="0.0003125" iyz="0" izz="0.0003125" />
    </inertial>
  </link>
  <link name="RightForeArm">
    <inertial>
      <origin xyz="0 0 0" rpy="0 0 0" />
      <mass value="0.125" />
      <inertia ixx="0.0003125" ixy="0" ixz="0" iyy="0.0003125" iyz="0" izz="0.0003125" />
    </inertial>
    <visual>
      <origin xyz="0.05 -0 -0" rpy="0 1.57 0" />
      <geometry>
        <cylinder radius="0.005" length="0.1" />
      </geometry>
    </visual>
  </link>
  <joint name="RightArm_to_RightForeArm_rz" type="revolute">
    <parent link="RightArm" />
    <child link="RightForeArm_rz" />
    <origin xyz="0.16500046 0.0000001 0.00000003" rpy="0 0 0" />
    <axis xyz="0 0 1" />
    <limit lower="-3.14159" upper="3.14159" effort="100" velocity="10" />
  </joint>
  <joint name="RightForeArm_rz_to_RightForeArm_ry" type="fixed">
    <parent link="RightForeArm_rz" />
    <child link="RightForeArm_ry" />
    <origin xyz="0 0 0" rpy="0 0 0" />
    <axis xyz="0 1 0" />
    <limit lower="-3.14159" upper="3.14159" effort="100" velocity="10" />
  </joint>
  <joint name="RightForeArm_ry_to_RightForeArm" type="fixed">
    <parent link="RightForeArm_ry" />
    <child link="RightForeArm" />
    <origin xyz="0 0 0" rpy="0 0 0" />
    <axis xyz="1 0 0" />
    <limit lower="-3.14159" upper="3.14159" effort="100" velocity="10" />
  </joint>
  <link name="RightHand_rz">
    <inertial>
      <origin xyz="0 0 0" rpy="0 0 0" />
      <mass value="0.125" />
      <inertia ixx="0.0003125" ixy="0" ixz="0" iyy="0.0003125" iyz="0" izz="0.0003125" />
    </inertial>
  </link>
  <link name="RightHand_ry">
    <inertial>
      <origin xyz="0 0 0" rpy="0 0 0" />
      <mass value="0.125" />
      <inertia ixx="0.0003125" ixy="0" ixz="0" iyy="0.0003125" iyz="0" izz="0.0003125" />
    </inertial>
  </link>
  <link name="RightHand">
    <inertial>
      <origin xyz="0 0 0" rpy="0 0 0" />
      <mass value="0.125" />
      <inertia ixx="0.0003125" ixy="0" ixz="0" iyy="0.0003125" iyz="0" izz="0.0003125" />
    </inertial>
    <visual>
      <geometry>
        <sphere radius="0.01" />
      </geometry>
    </visual>
  </link>
  <joint name="RightForeArm_to_RightHand_rz" type="fixed">
    <parent link="RightForeArm" />
    <child link="RightHand_rz" />
    <origin xyz="0.12599888 0.0000007 0.00000216" rpy="0 0 0" />
    <axis xyz="0 0 1" />
    <limit lower="-3.14159" upper="3.14159" effort="100" velocity="10" />
  </joint>
  <joint name="RightHand_rz_to_RightHand_ry" type="fixed">
    <parent link="RightHand_rz" />
    <child link="RightHand_ry" />
    <origin xyz="0 0 0" rpy="0 0 0" />
    <axis xyz="0 1 0" />
    <limit lower="-3.14159" upper="3.14159" effort="100" velocity="10" />
  </joint>
  <joint name="RightHand_ry_to_RightHand" type="fixed">
    <parent link="RightHand_ry" />
    <child link="RightHand" />
    <origin xyz="0 0 0" rpy="0 0 0" />
    <axis xyz="1 0 0" />
    <limit lower="-3.14159" upper="3.14159" effort="100" velocity="10" />
  </joint>
  <link name="RightHand_End">
    <inertial>
      <origin xyz="0 0 0" rpy="0 0 0" />
      <mass value="0.125" />
      <inertia ixx="0.0003125" ixy="0" ixz="0" iyy="0.0003125" iyz="0" izz="0.0003125" />
    </inertial>
    <visual>
      <geometry>
        <sphere radius="0.01" />
      </geometry>
    </visual>
  </link>
  <joint name="RightHand_to_RightHand_End" type="fixed">
    <parent link="RightHand" />
    <child link="RightHand_End" />
    <origin xyz="0 0 0" rpy="0 0 0" />
  </joint>
</robot>
